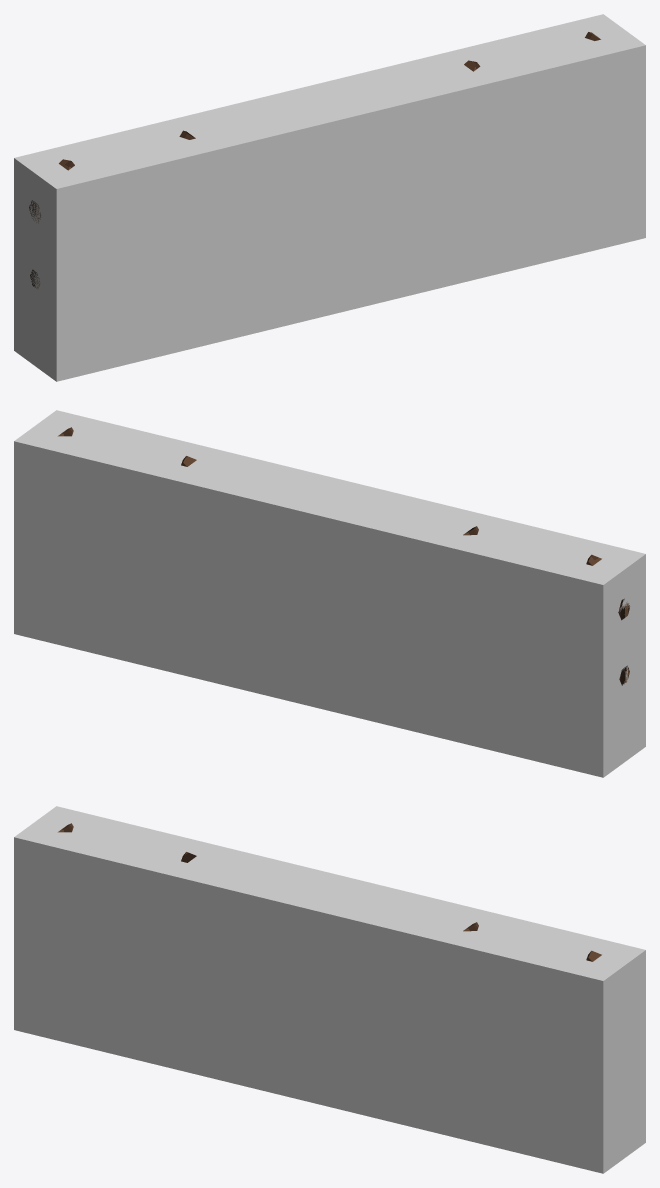
The model's file is JP_Prop_Barrier_A.glb.
The picture shows the model from 3 angles, top to bottom: view 1: azimuth 30°, elevation 25°; view 2: azimuth 150°, elevation 25°; view 3: azimuth 330°, elevation 25°; orthographic projection.
Visible parts, largest first — view 1: COL_JP_Prop_Barrier_A, JP_Prop_Barrier_A; view 2: COL_JP_Prop_Barrier_A, JP_Prop_Barrier_A; view 3: COL_JP_Prop_Barrier_A.
Part boxes in pixels (<box>): COL_JP_Prop_Barrier_A: <box>14,14,645,381</box>; JP_Prop_Barrier_A: <box>29,32,600,288</box>; COL_JP_Prop_Barrier_A: <box>14,410,645,777</box>; JP_Prop_Barrier_A: <box>58,427,629,685</box>; COL_JP_Prop_Barrier_A: <box>14,806,645,1173</box>.
Size of the model in its own units: 3.2 by 1.05 by 0.4.
1 material, 1 textured.
